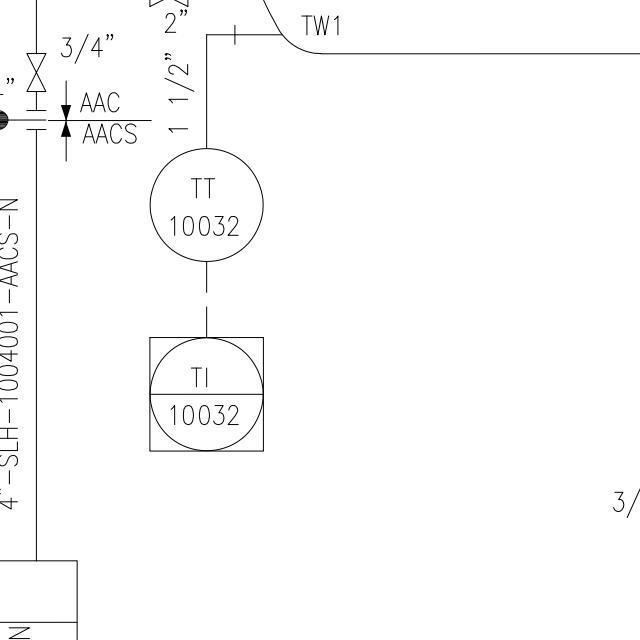GV: (22, 48, 51, 96)
